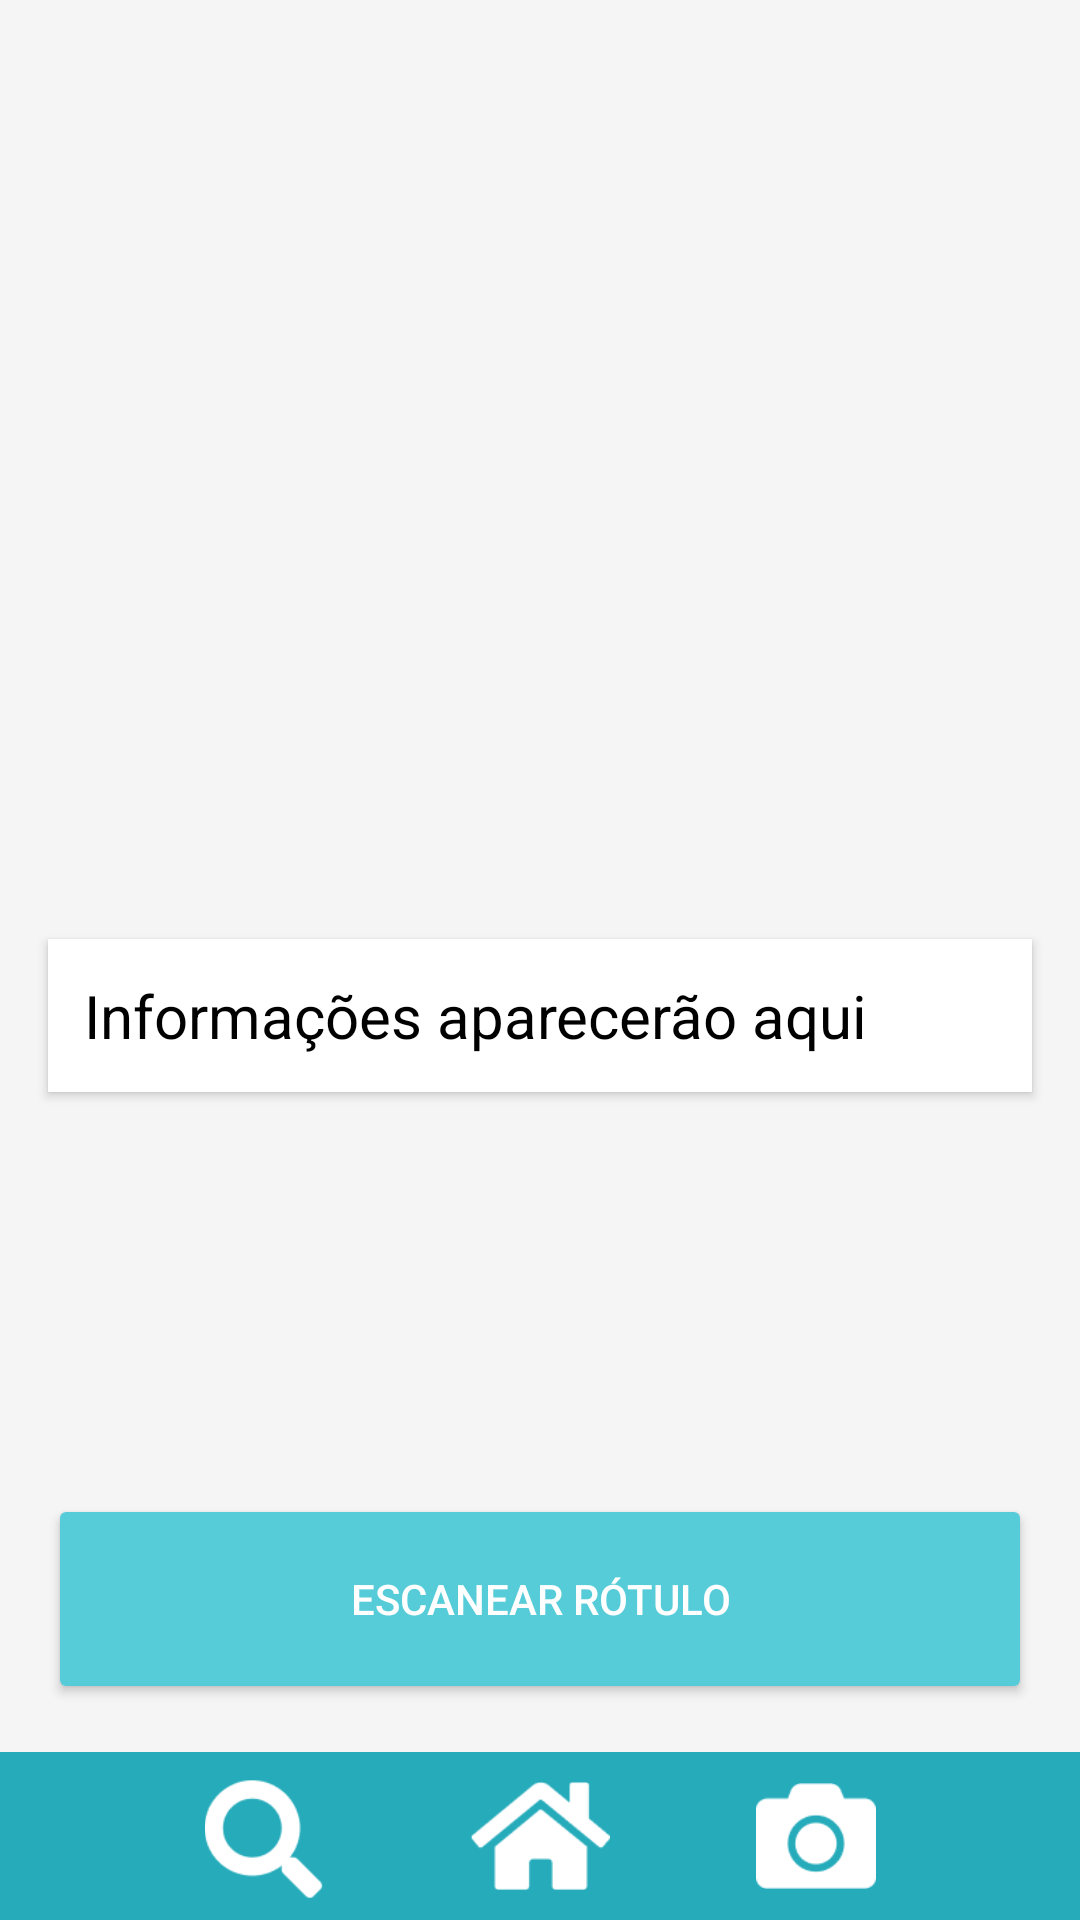

Icon click points for this 1080px×1920px phone screenshot, format (x=x, y=y):
camera: (x=816, y=1836)
home: (x=540, y=1836)
search: (x=263, y=1839)
